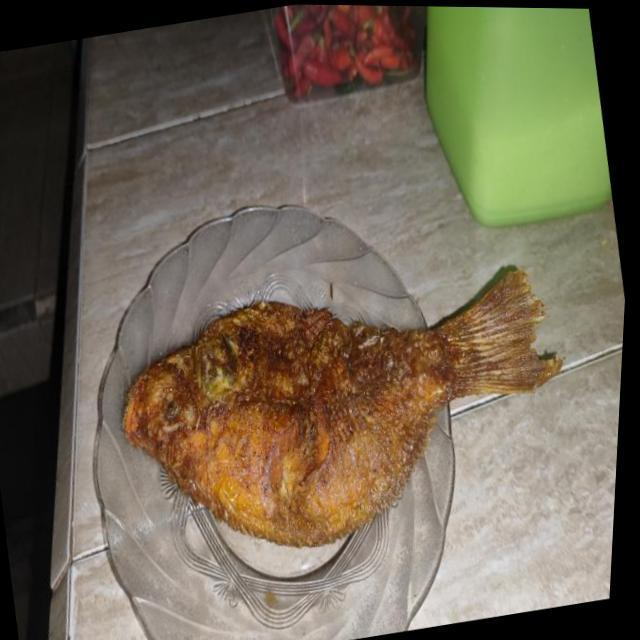ikan_mujair: (124, 271, 560, 546)
